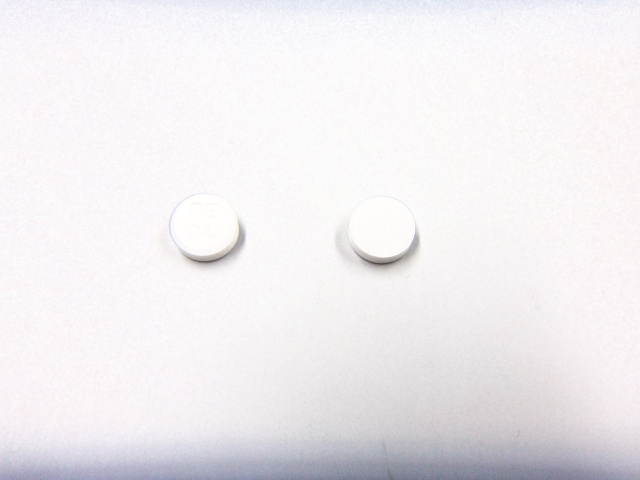2: (184, 223, 200, 245)
E: (203, 200, 222, 222)
